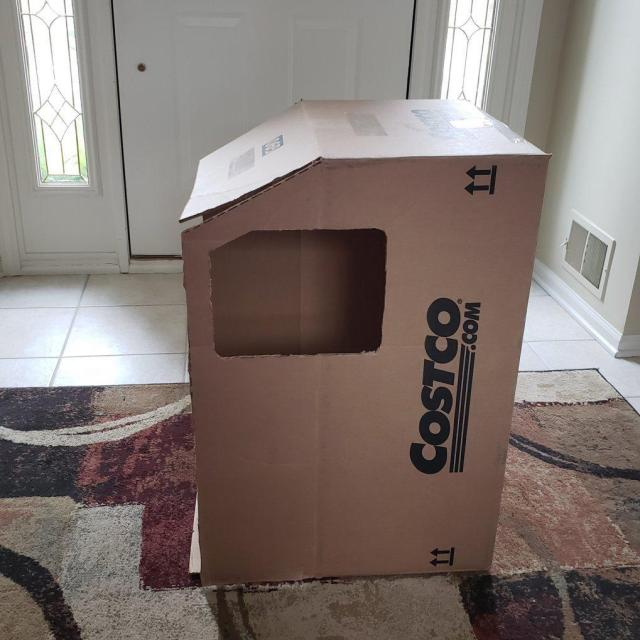cardboard: (178, 97, 552, 586)
